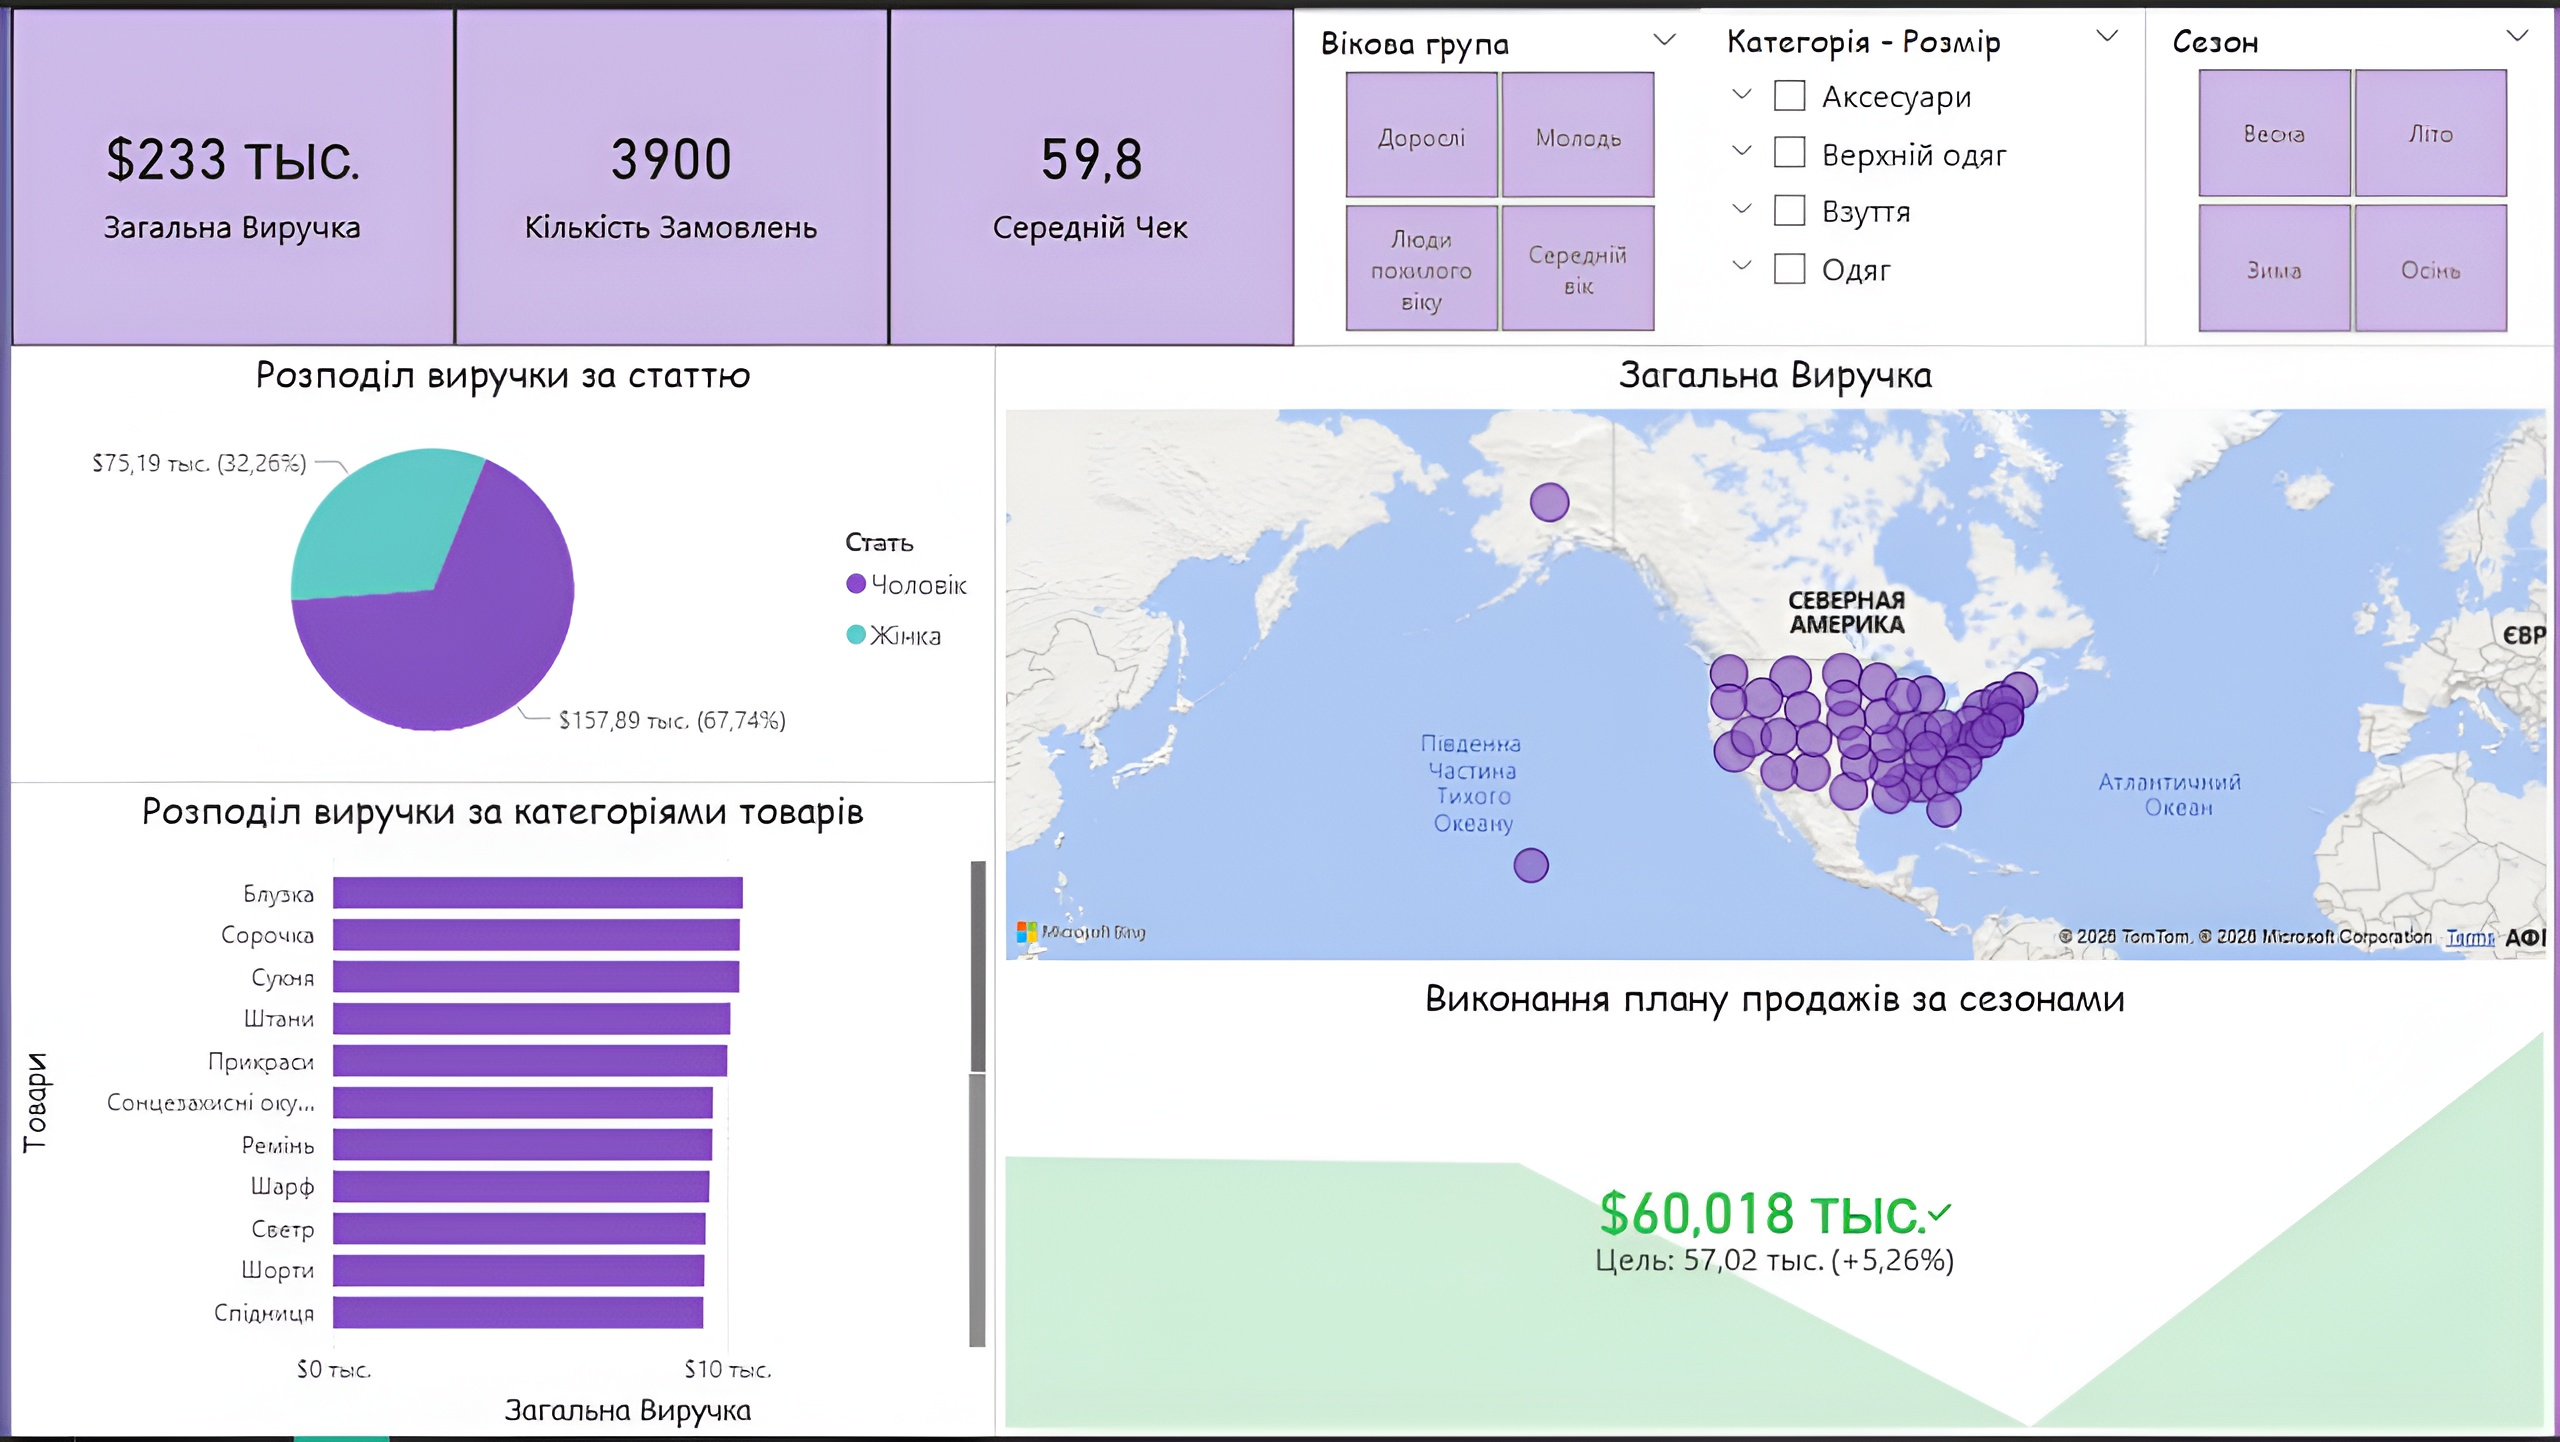

The dashboard page shown, as its layout file describes it:
{"tool":"powerbi","page":{"name":"Продажі","canvas":[1280,720],"ordinal":0},"visuals":[{"type":"card","fields":{"Values":["Продажі.Загальна Виручка"]},"box":[0,0,223.3,170.6],"z":0},{"type":"card","fields":{"Values":["Продажі.Кількість Замовлень"]},"box":[223.3,0,218.4,170.6],"z":1000},{"type":"card","fields":{"Values":["Продажі.Середній Чек"]},"box":[441.7,0,203.7,170.6],"z":2000},{"type":"slicer","fields":{"Values":["Продажі.Сезон"]},"box":[1074.4,0,205.8,170.2],"z":3000},{"type":"slicer","fields":{"Values":["Продажі.Категорія","Продажі.Розмір"]},"box":[850.8,0,223.7,170.2],"z":4000},{"type":"slicer","fields":{"Values":["Продажі.Вікова група"]},"box":[644.9,1.4,205.8,168.8],"z":5000},{"type":"pieChart","title":"Розподіл виручки за статтю","fields":{"Category":["Продажі.Стать"],"Y":["Продажі.Загальна Виручка"]},"box":[0,170.2,495.4,219.6],"z":6000},{"type":"clusteredBarChart","title":"Розподіл виручки за категоріями товарів","fields":{"Category":["Продажі.Товар"],"Y":["Продажі.Загальна Виручка"]},"box":[0,389.7,495.4,330.7],"z":7000},{"type":"map","title":"Загальна Виручка","fields":{"Category":["Продажі.Локація"],"Size":["Продажі.Загальна Виручка"]},"box":[495.4,170.2,784.9,314.2],"z":8000},{"type":"kpi","title":"Виконання плану продажів за сезонами","fields":{"Indicator":["Продажі.Загальна Виручка"],"Goal":["Продажі.План з продажу"],"TrendLine":["Продажі.Сезон"]},"box":[495.7,484.7,784.1,235.6],"z":9000}]}

Visuals, with their boxes in screenshot pixels (x1, y1, x2, y2), scaled from the page's 1280x720 canvas onto the 2560x1442 screenshot:
card - Продажі.Загальна Виручка: pyautogui.locateOnScreen(0, 0, 447, 342)
card - Продажі.Кількість Замовлень: pyautogui.locateOnScreen(447, 0, 883, 342)
card - Продажі.Середній Чек: pyautogui.locateOnScreen(883, 0, 1291, 342)
slicer - Продажі.Сезон: pyautogui.locateOnScreen(2149, 0, 2559, 341)
slicer - Продажі.Категорія x Продажі.Розмір: pyautogui.locateOnScreen(1702, 0, 2149, 341)
slicer - Продажі.Вікова група: pyautogui.locateOnScreen(1290, 3, 1701, 341)
"Розподіл виручки за статтю" pieChart: pyautogui.locateOnScreen(0, 341, 991, 781)
"Розподіл виручки за категоріями товарів" clusteredBarChart: pyautogui.locateOnScreen(0, 780, 991, 1441)
"Загальна Виручка" map: pyautogui.locateOnScreen(991, 341, 2559, 970)
"Виконання плану продажів за сезонами" kpi: pyautogui.locateOnScreen(991, 971, 2559, 1441)
